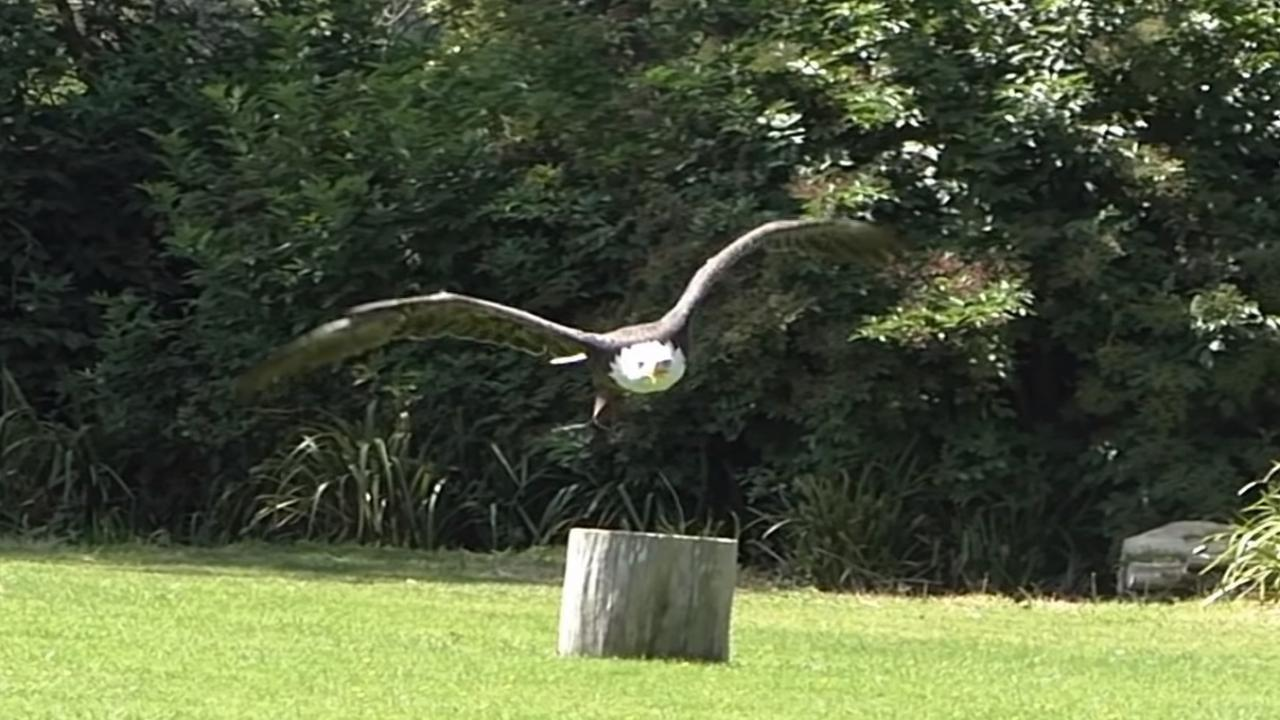Bird: (221, 212, 930, 443)
